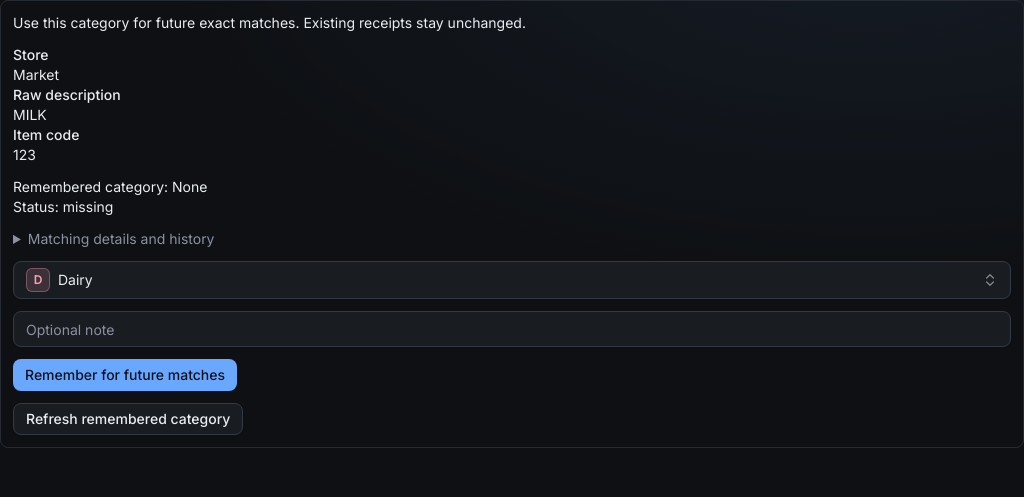
creates a first approval only on a separate explicit action
Expected: the text "Remembered category: None" is shown, [13, 178, 207, 195]
Type "Exact source reviewed" into the field named "reason" at coordinates (512, 329), box [13, 311, 1011, 347]
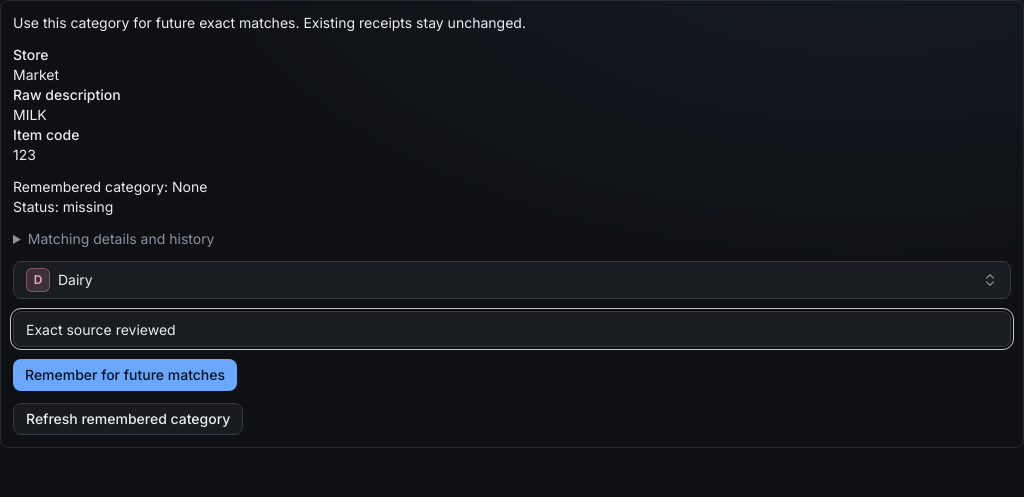
Click the button "Remember for future matches" at coordinates (125, 375), box [13, 359, 237, 391]
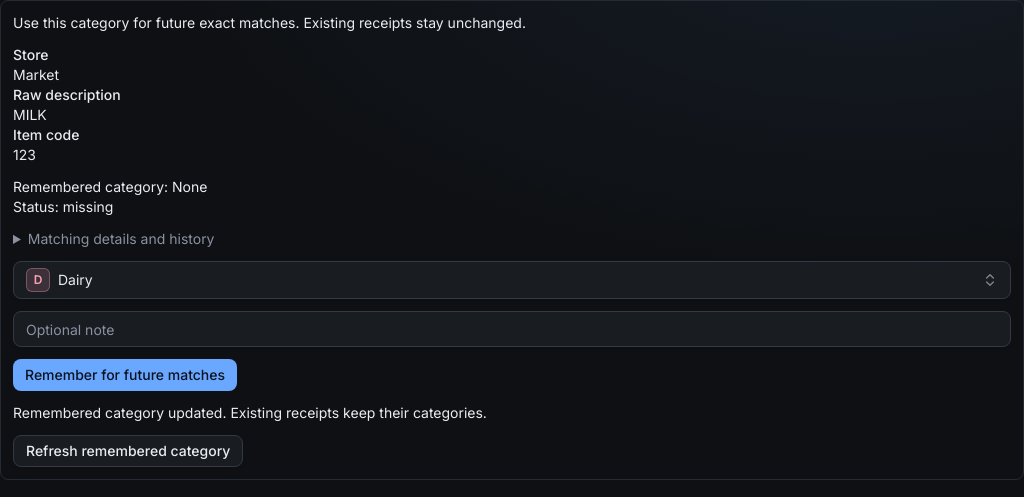
Now the text "Remembered category updated. Existing receipts keep their categories." is shown, box [13, 404, 487, 421]
